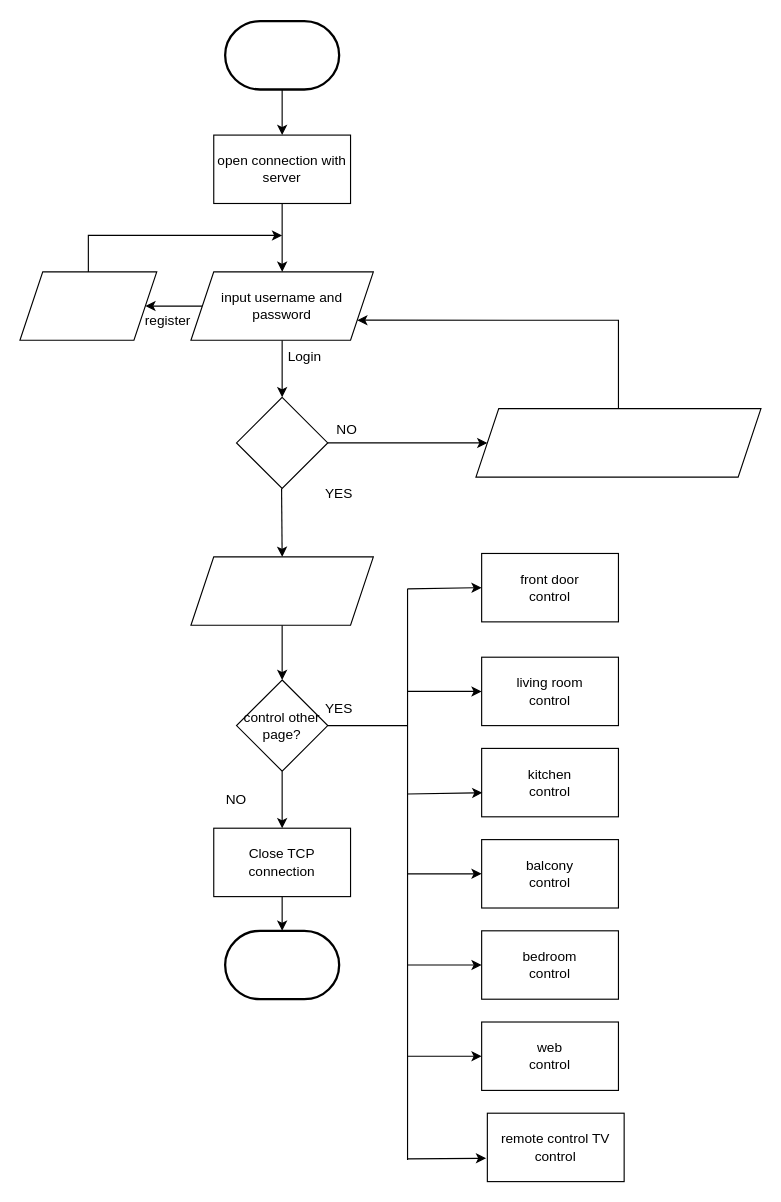
This 781x1202 diagram has some shape labels left out. The shapes that lost their labels are listed below. From the top down, each one's box as (x1, y1, x2, y2) in pixels, then its label:
(223, 19, 340, 90): START
(19, 271, 157, 340): save into database
(235, 396, 328, 488): Authorized?
(475, 408, 761, 477): output message "wrong username and password:
(190, 556, 373, 625): front door page
(223, 929, 340, 1000): END
